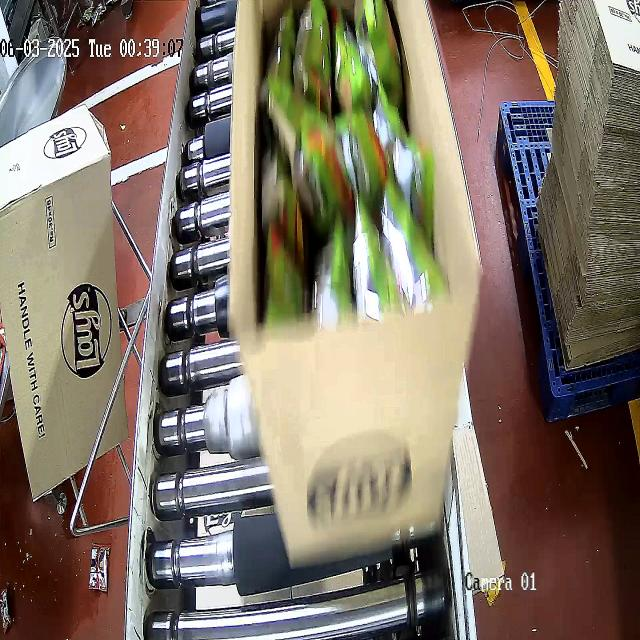YOGURT_HERB: (259, 0, 440, 312)
